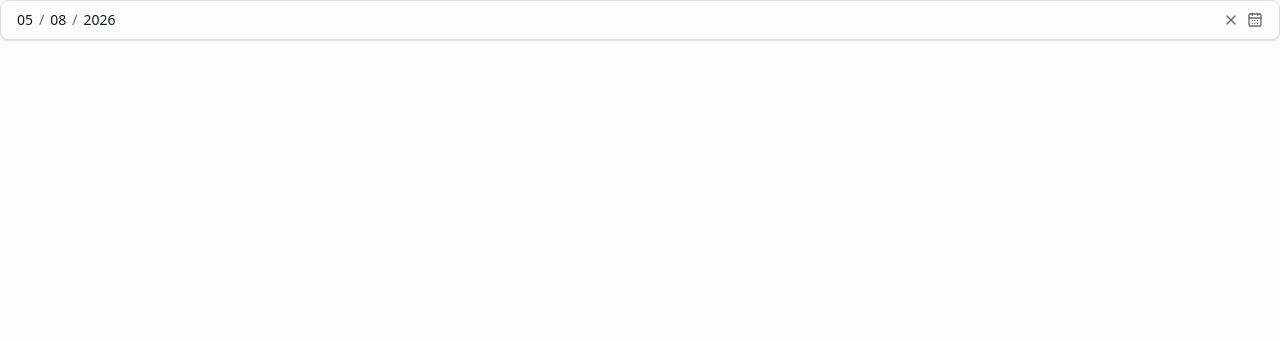
Test case: DateField calendar › closes on Escape without choosing
The width and height of the screenshot is (1280, 341).
Click the button named "Open the calendar". click: [1255, 20]
box: [1243, 8, 1267, 32]
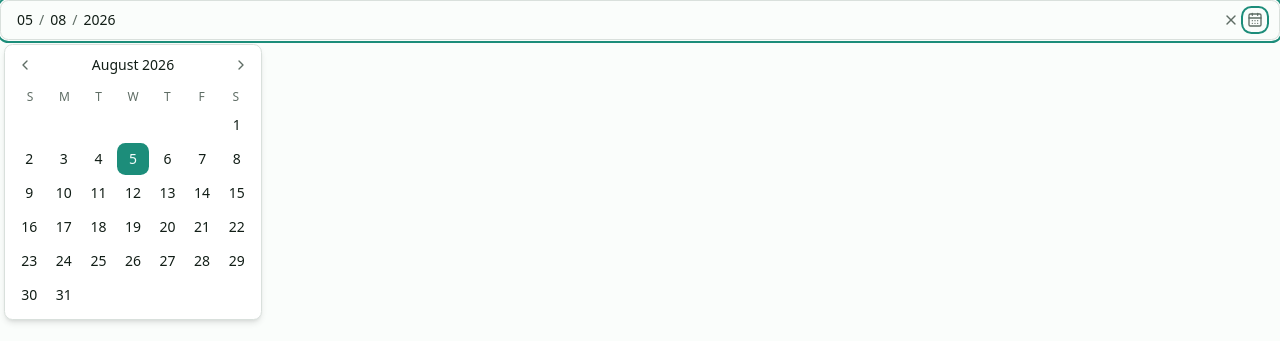
Press Escape
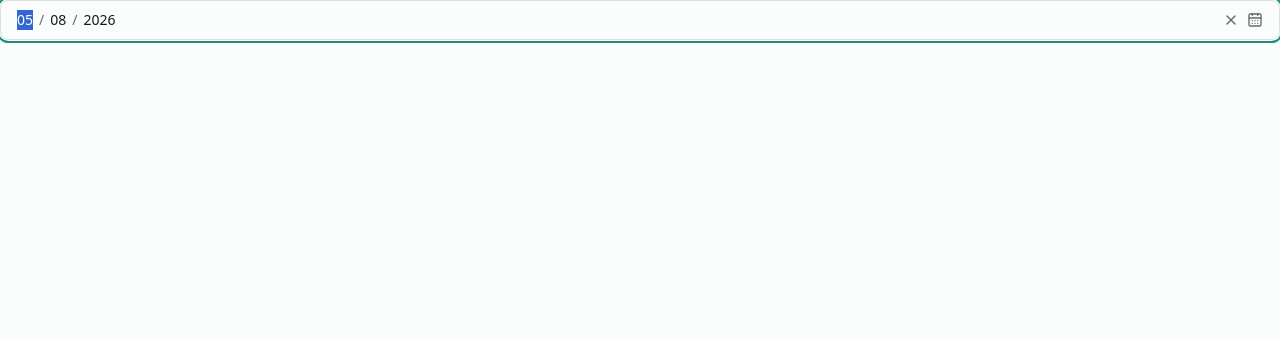
Result: the button "17" is gone
